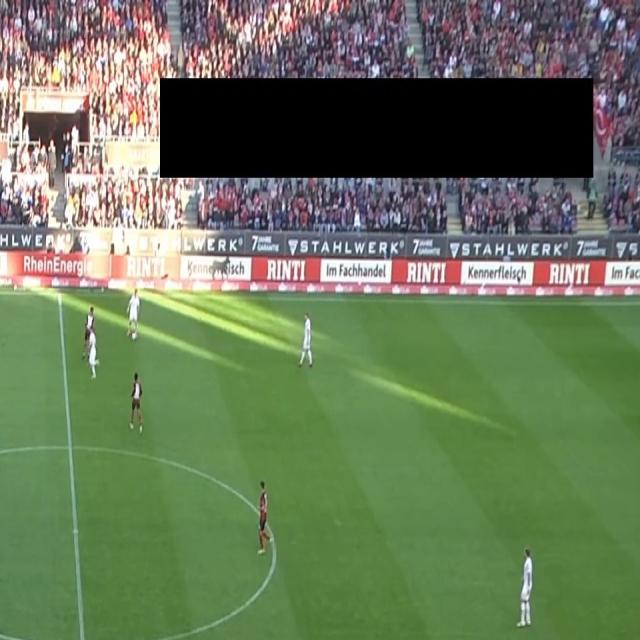ball: (132, 330, 136, 340)
